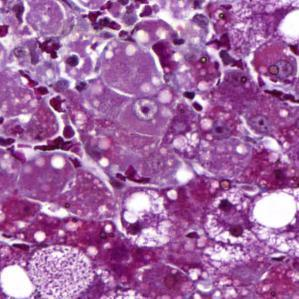ballooning: (24, 243, 95, 299), (202, 182, 263, 247), (114, 185, 173, 249)
